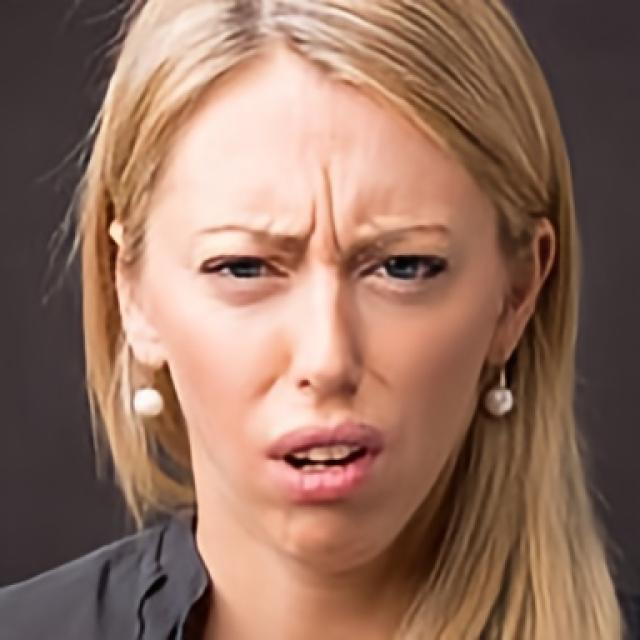disgust: (140, 47, 507, 572)
